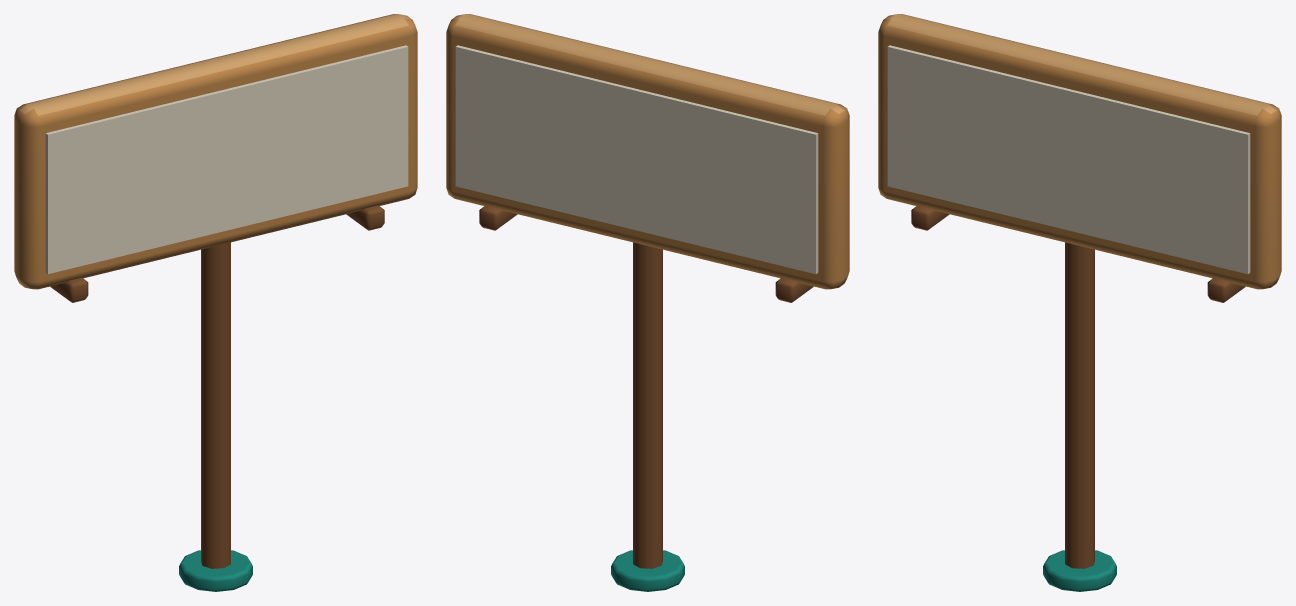
Rendered from tropic-sign.glb.
3 views of the same model, side by side, from view 1: azimuth 30°, elevation 25°; view 2: azimuth 150°, elevation 25°; view 3: azimuth 330°, elevation 25° (orthographic).
Parts seen in each view (by area): view 1: tropic-sign; view 2: tropic-sign; view 3: tropic-sign.
Boxes of the visible parts, <box> form: tropic-sign: <box>14,14,417,591</box>; tropic-sign: <box>446,14,849,591</box>; tropic-sign: <box>878,14,1281,591</box>.
Bounding box in the file's own units: 1.6 × 2 × 0.26.
